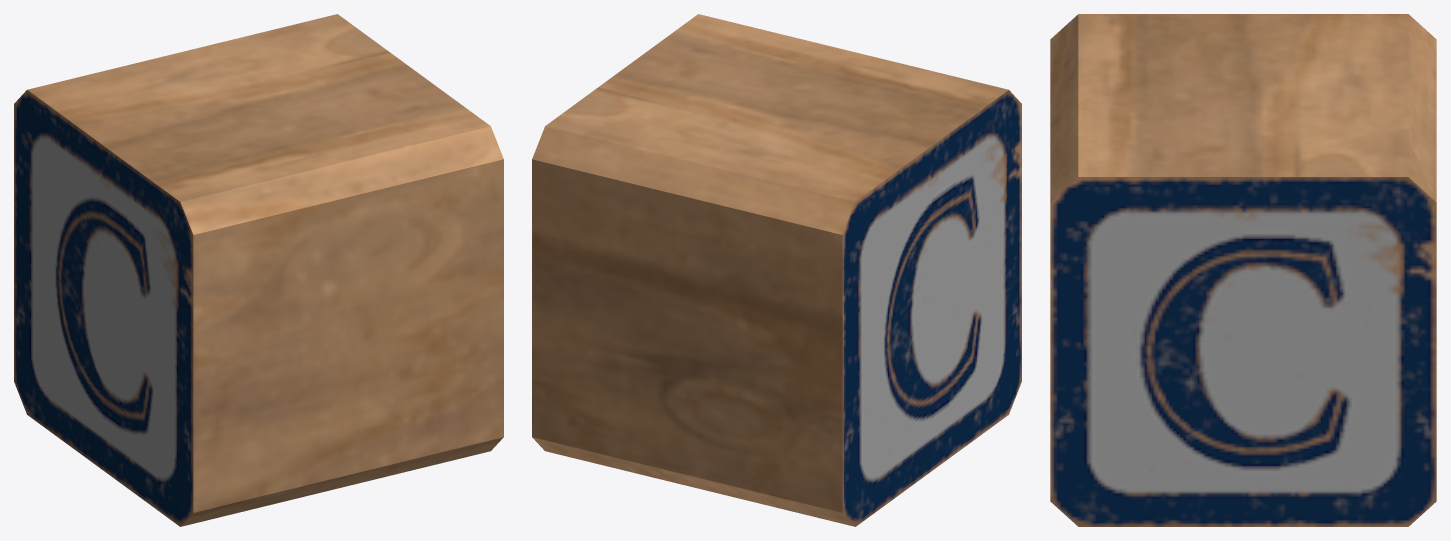
File: ToyBlock_C.fbx
3 renders of one model, left to right at view 1: azimuth 30°, elevation 25°; view 2: azimuth 150°, elevation 25°; view 3: azimuth 270°, elevation 25°, orthographic. The views are drawn at different scales.
Parts seen in each view (by area): view 1: ToyBlockC; view 2: ToyBlockC; view 3: ToyBlockC.
Boxes of the visible parts, x1,y1,x2,y2 form: ToyBlockC: [14, 14, 503, 526]; ToyBlockC: [532, 14, 1021, 526]; ToyBlockC: [1050, 14, 1436, 526].
Size of the model in its own units: 100 by 100 by 100.
1 material, 1 textured.
